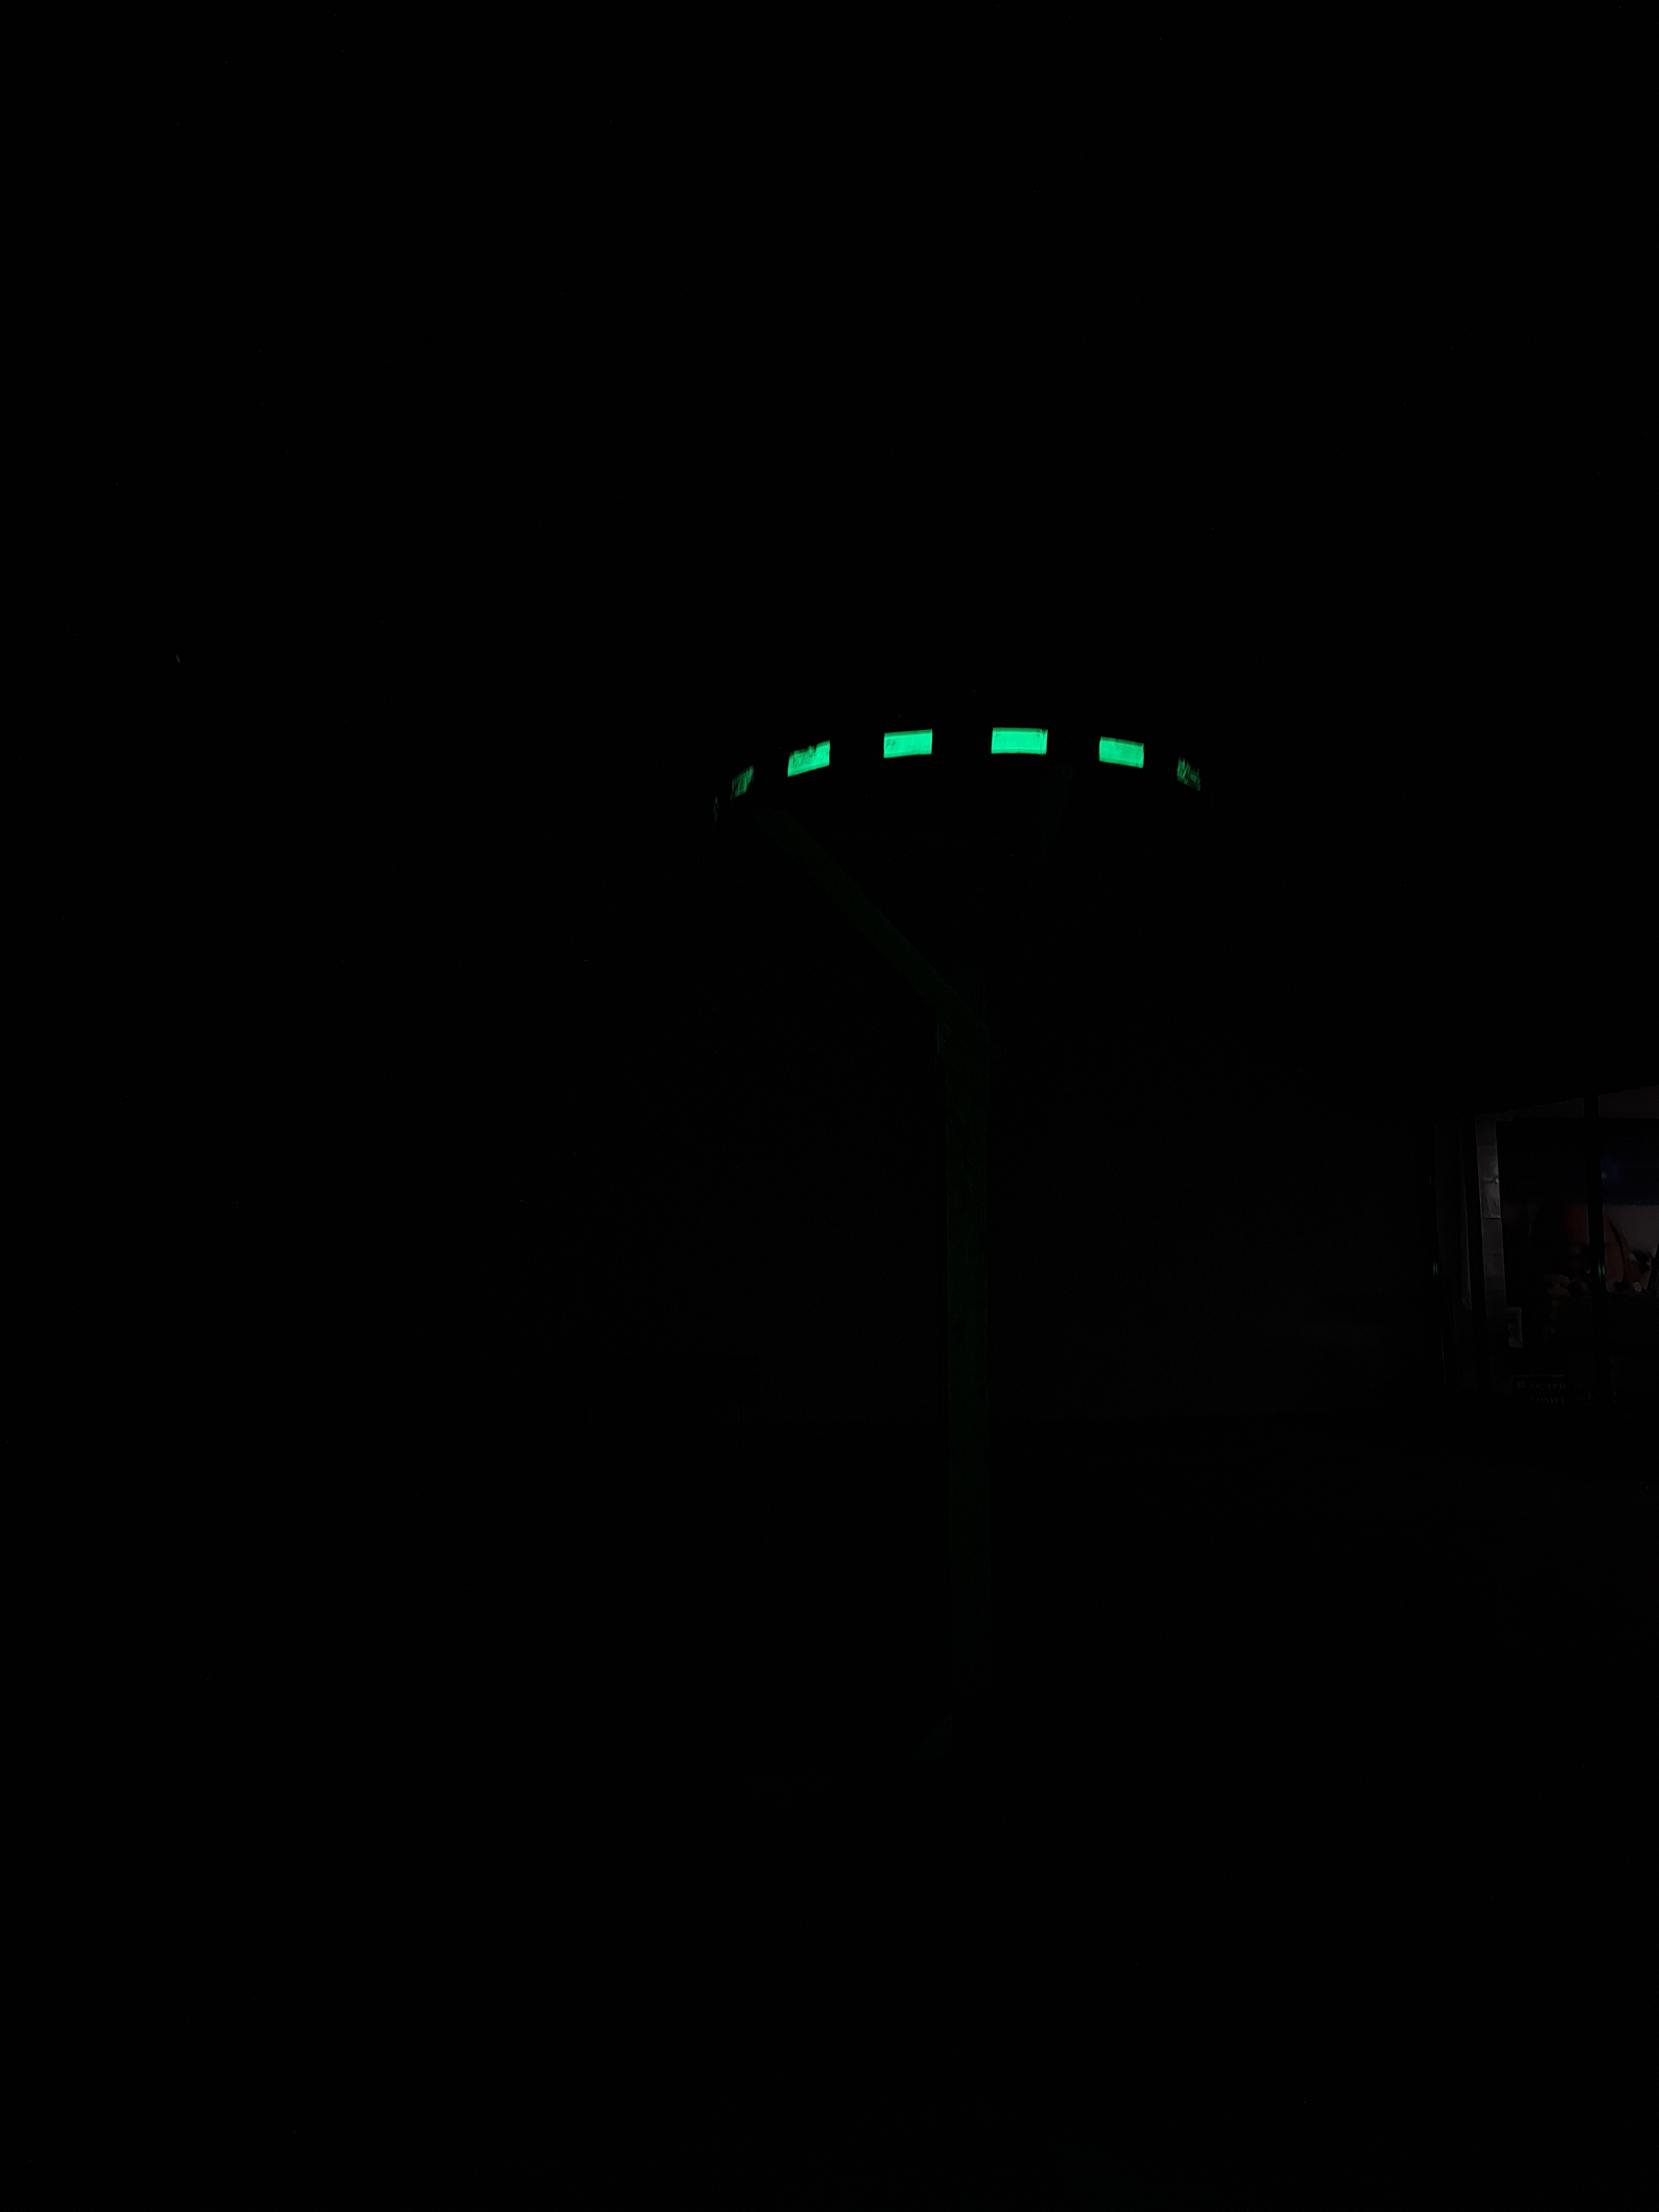hoop: (716, 728, 1206, 796)
